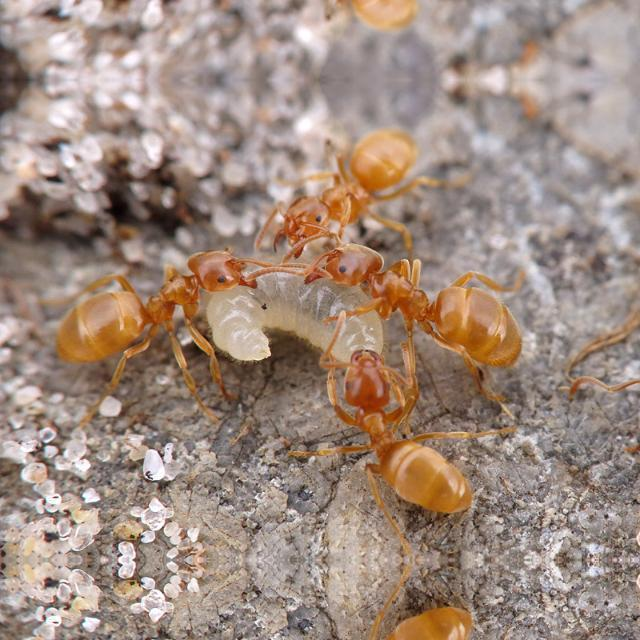Lasius: (294, 214, 548, 386), (296, 336, 512, 526), (48, 220, 260, 394), (253, 114, 455, 262), (294, 594, 512, 640), (253, 0, 455, 46)
